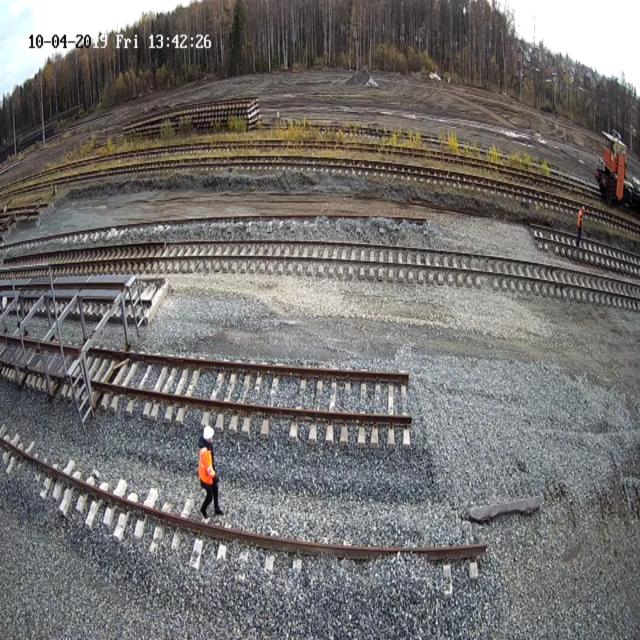Helmet: (203, 425, 214, 440)
Person: (198, 425, 223, 518), (575, 204, 586, 247)
